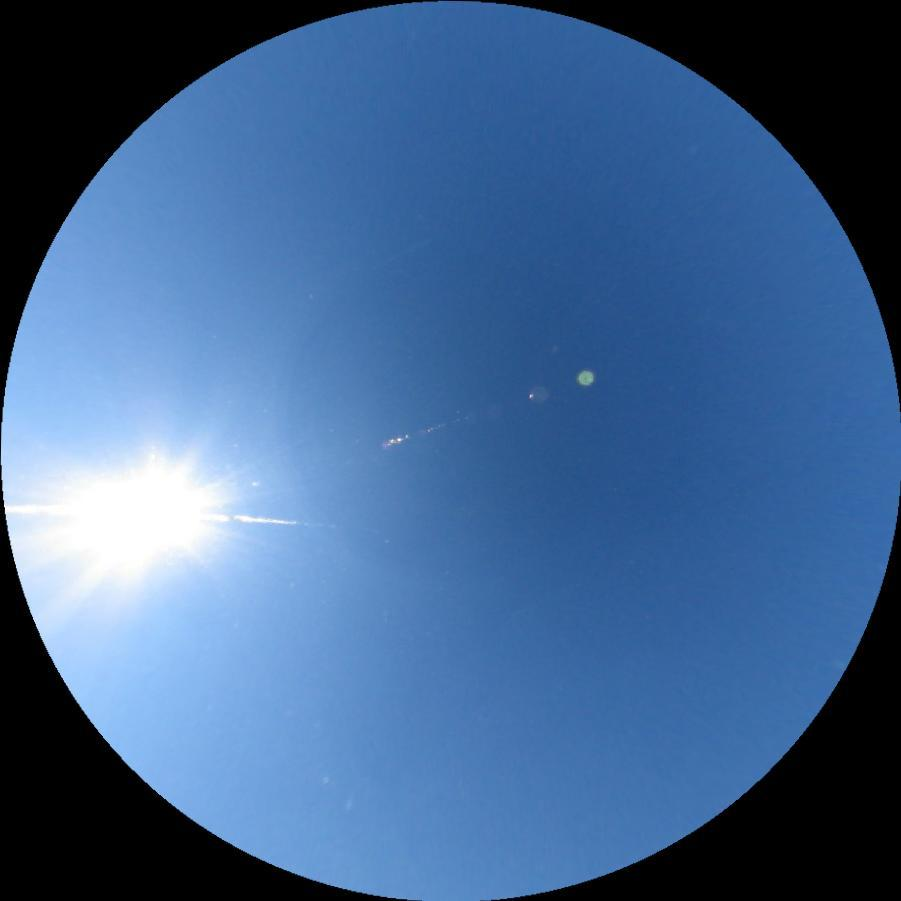contrail young: (358, 236, 433, 278)
sun: (56, 447, 215, 582)
